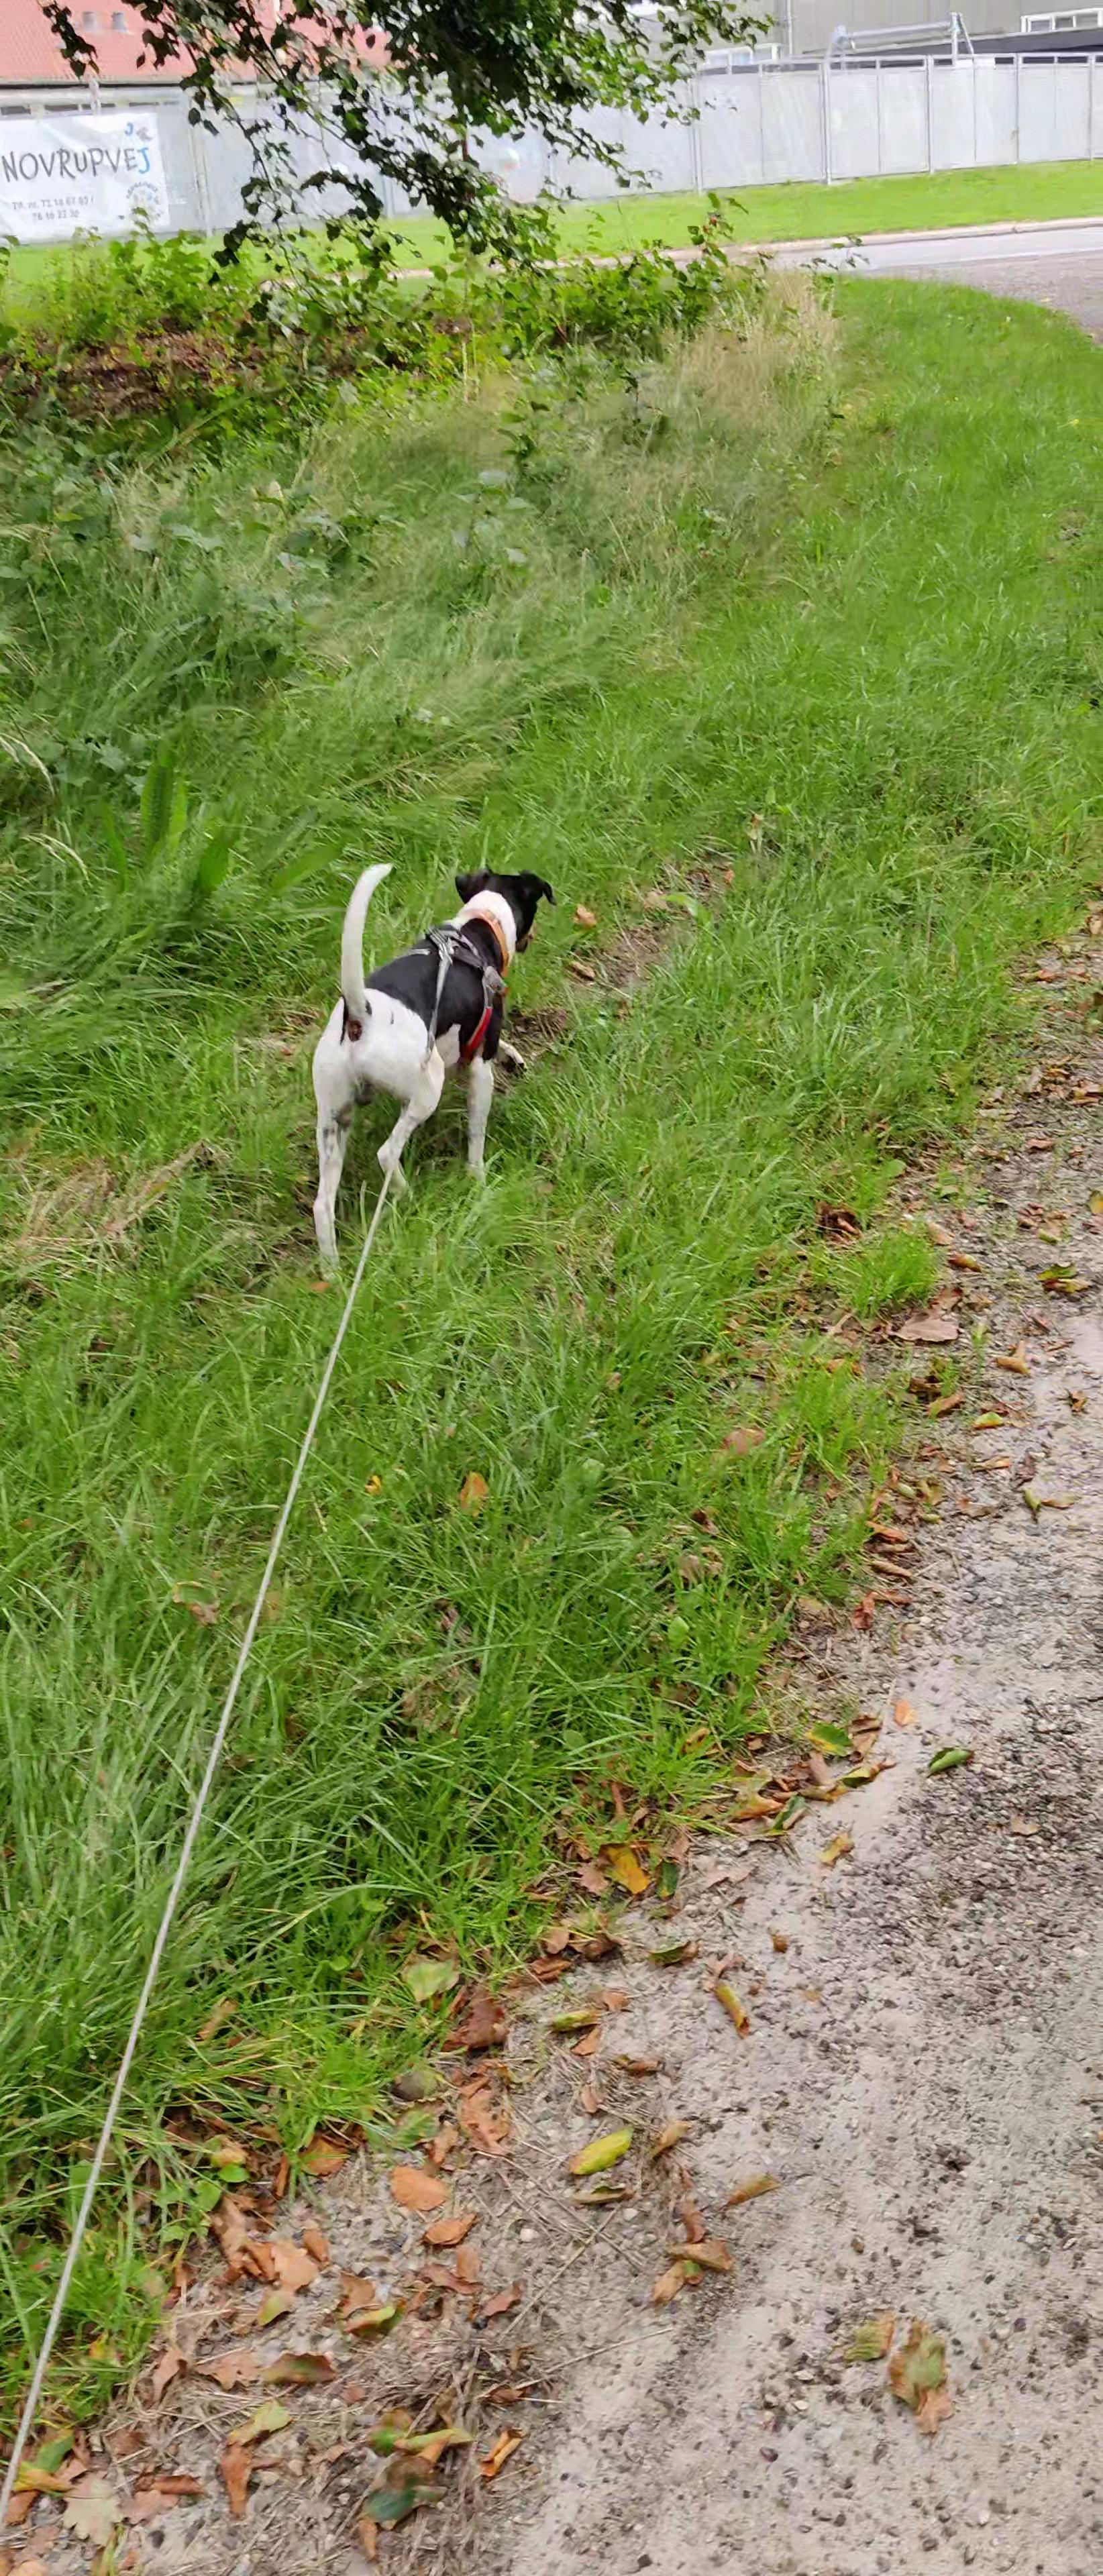Dog: (306, 853, 561, 1283)
